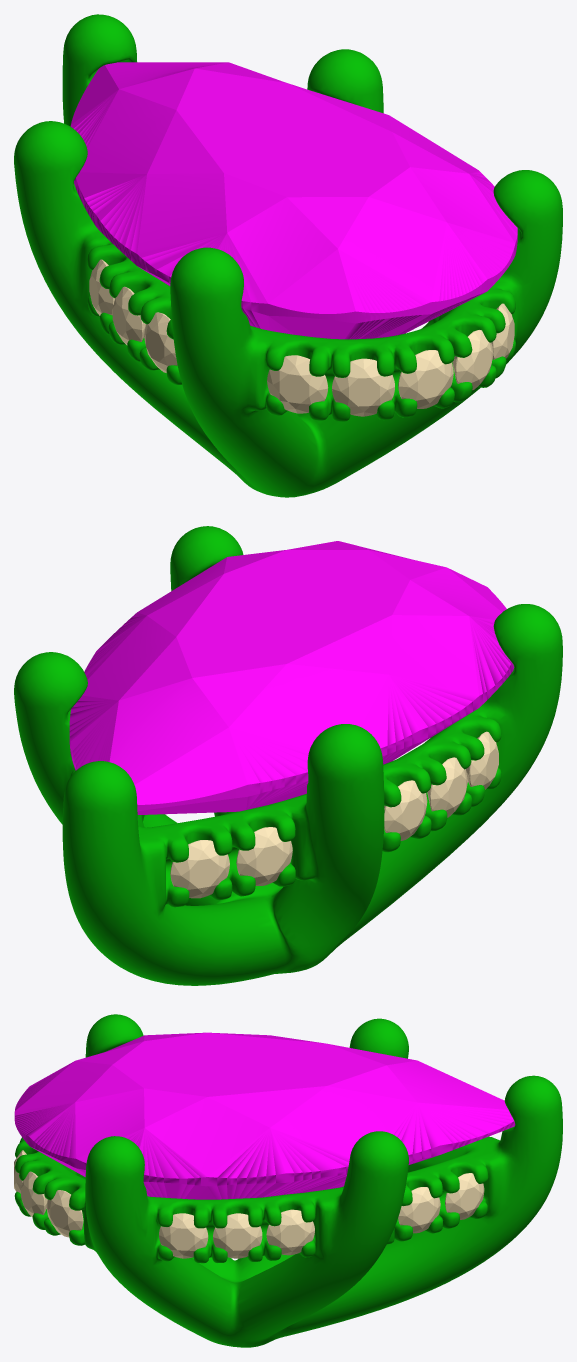
3 views of the same model, one above another, from view 1: azimuth 30°, elevation 25°; view 2: azimuth 150°, elevation 25°; view 3: azimuth 270°, elevation 25° (orthographic). The views are drawn at different scales.
Parts seen in each view (by area): view 1: Diamond_Pear, Metal01, Diamond_Round.011, Diamond_Round.010, Diamond_Round.012, Diamond_Round.013, Diamond_Round.009, Diamond_Round.008, Diamond_Round.007, Diamond_Round.014; view 2: Metal01, Diamond_Pear, Diamond_Round.006, Diamond_Round.005, Diamond_Round.007, Diamond_Round.008, Diamond_Round.009; view 3: Metal01, Diamond_Pear, Diamond_Round.001, Diamond_Round, Diamond_Round.002, Diamond_Round.004, Diamond_Round.003, Diamond_Round.014, Diamond_Round.013.
Boxes of the visible parts, x1,y1,x2,y2 form: Diamond_Pear: [70, 62, 517, 339]; Metal01: [14, 14, 562, 497]; Diamond_Round.011: [332, 358, 394, 416]; Diamond_Round.010: [267, 355, 328, 413]; Diamond_Round.012: [398, 350, 453, 408]; Diamond_Round.013: [452, 330, 493, 390]; Diamond_Round.009: [144, 312, 177, 372]; Diamond_Round.008: [112, 286, 145, 345]; Diamond_Round.007: [89, 259, 114, 315]; Diamond_Round.014: [491, 303, 514, 359]; Metal01: [14, 526, 562, 985]; Diamond_Pear: [69, 541, 514, 814]; Diamond_Round.006: [170, 840, 229, 898]; Diamond_Round.005: [236, 827, 292, 885]; Diamond_Round.007: [384, 780, 427, 840]; Diamond_Round.008: [427, 757, 467, 817]; Diamond_Round.009: [466, 731, 498, 789]; Metal01: [14, 1014, 562, 1347]; Diamond_Pear: [14, 1032, 515, 1199]; Diamond_Round.001: [213, 1213, 262, 1258]; Diamond_Round: [159, 1213, 208, 1258]; Diamond_Round.002: [266, 1209, 314, 1255]; Diamond_Round.004: [398, 1187, 440, 1233]; Diamond_Round.003: [445, 1173, 484, 1219]; Diamond_Round.014: [46, 1190, 83, 1237]; Diamond_Round.013: [21, 1171, 47, 1217].
Size of the model in its own units: 7.69 by 6.66 by 12.19.
